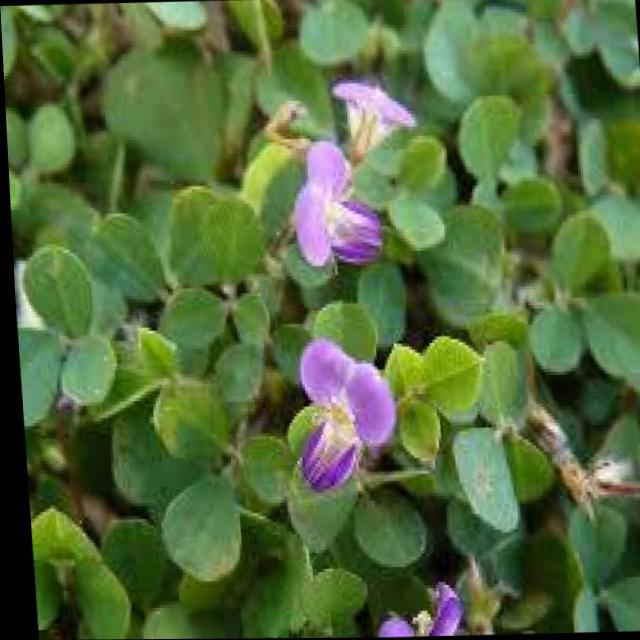Flower: (275, 321, 404, 487), (267, 134, 389, 266), (321, 67, 408, 151)
